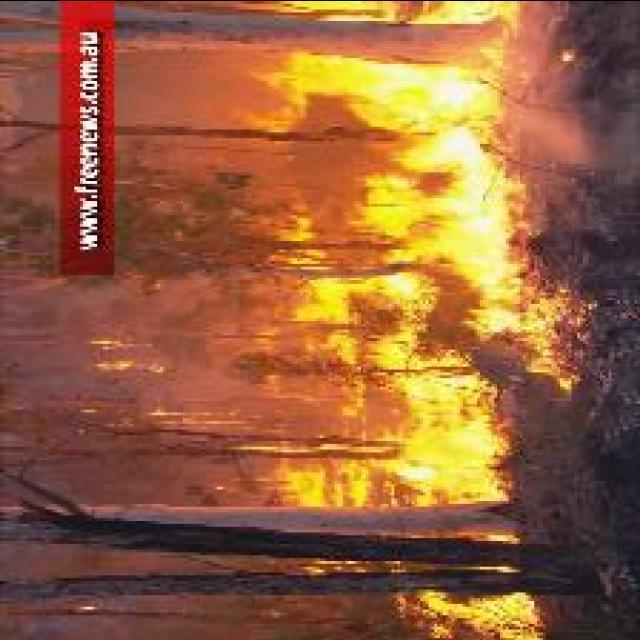Fire: (242, 1, 578, 508), (394, 590, 546, 639)
